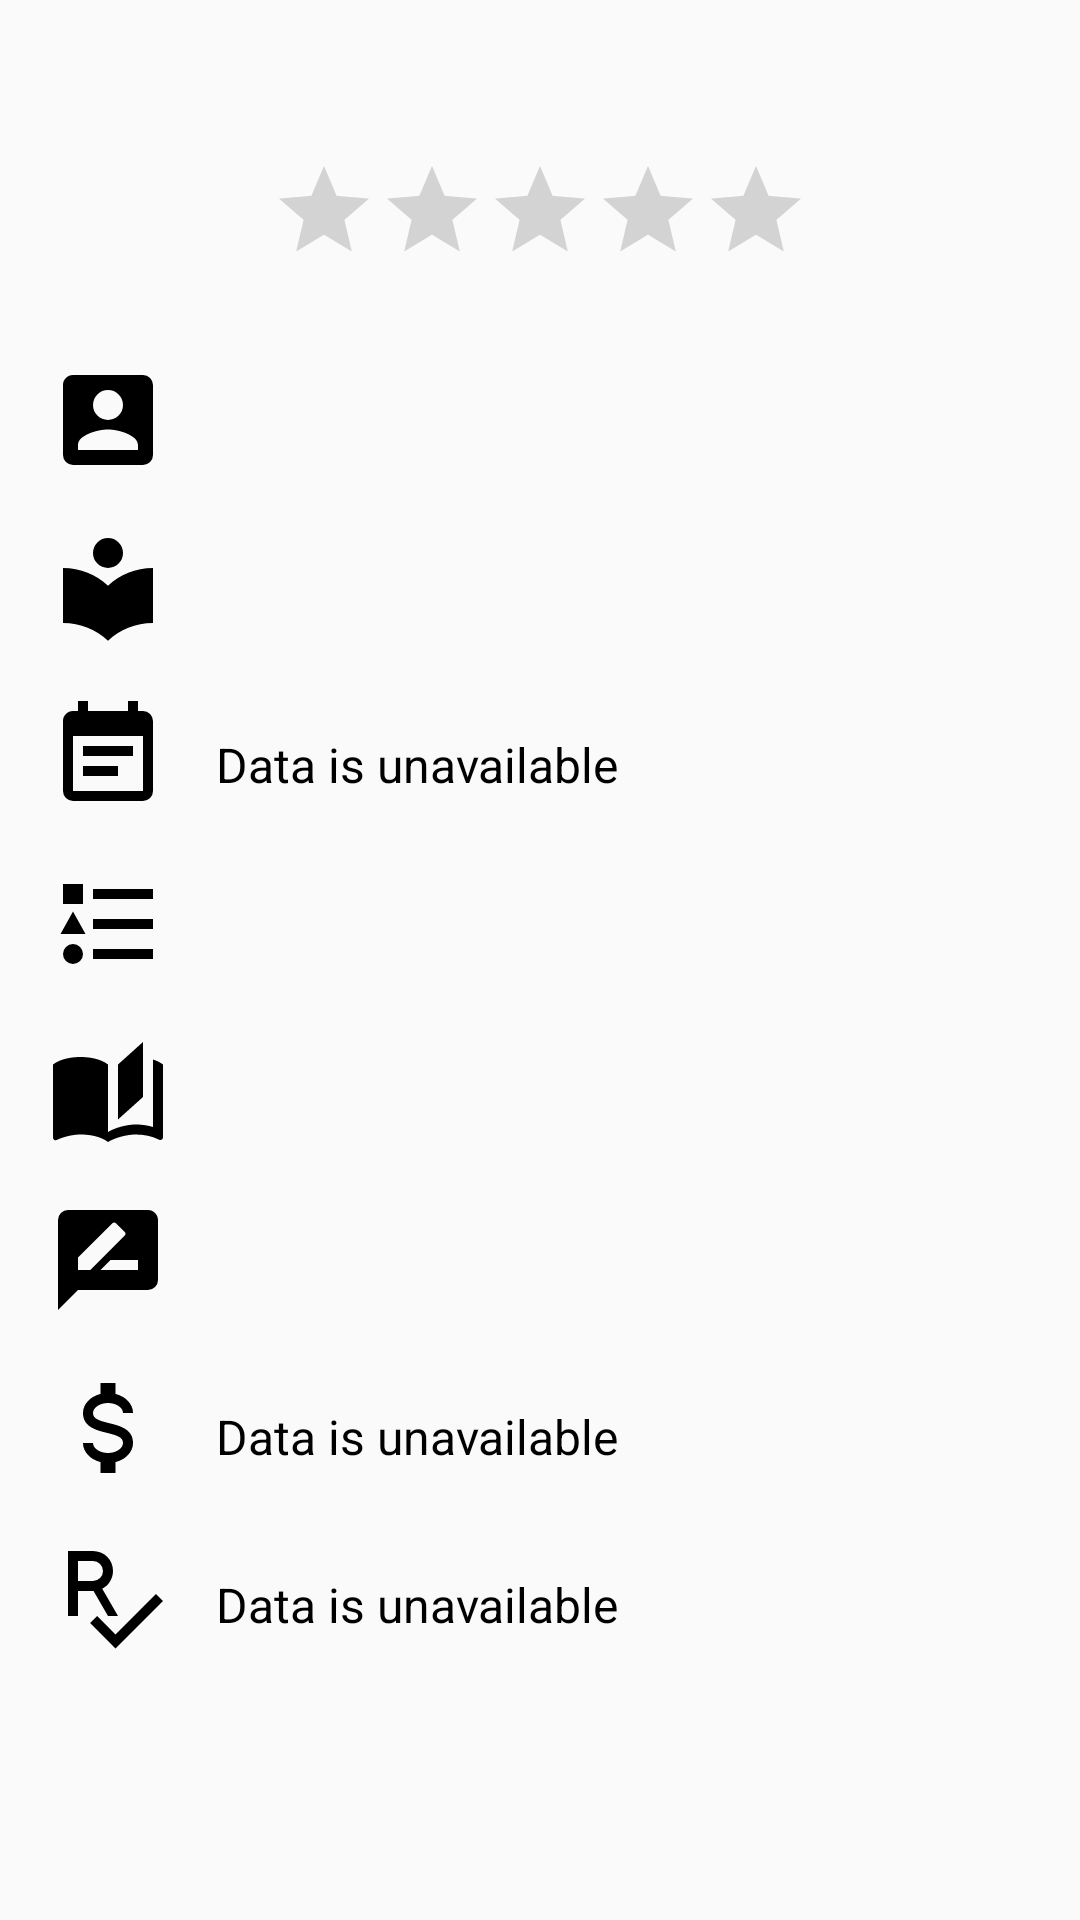

Where icons sit on this 1080x1920 app screen, as BBox(x1, y1, x2, y2):
book author: BBox(63, 375, 153, 465)
book categories: BBox(60, 884, 153, 964)
book page number: BBox(53, 1042, 163, 1142)
book publisher: BBox(63, 538, 153, 641)
book sold: BBox(83, 1383, 133, 1473)
book summary: BBox(58, 1210, 158, 1310)
